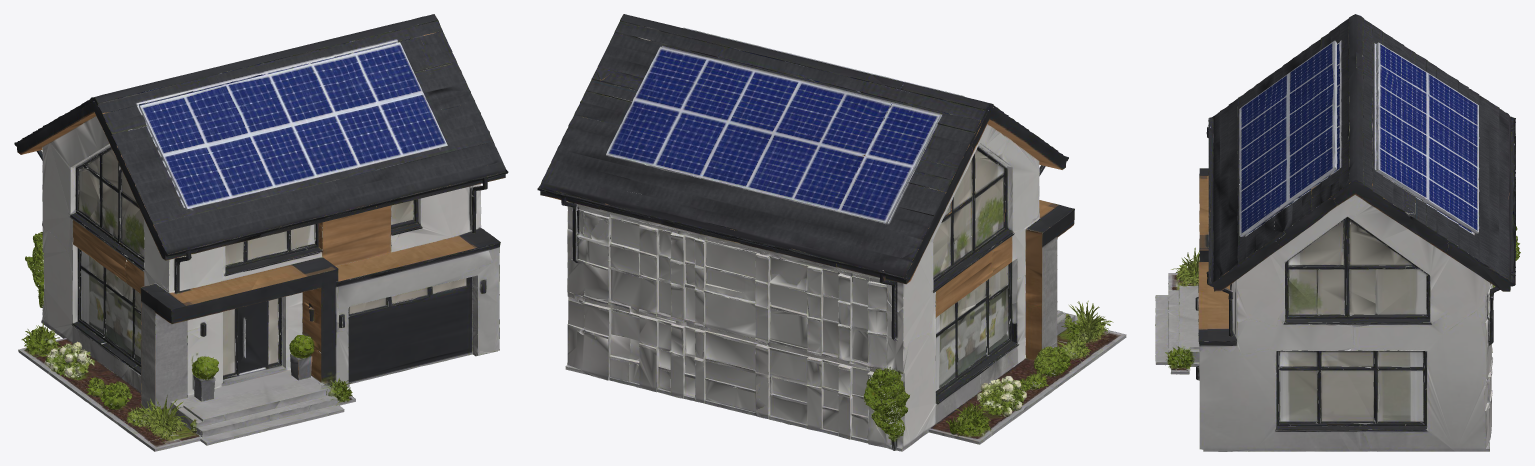
File: casa-3d.glb
3 views of the same model, side by side, from view 1: azimuth 30°, elevation 25°; view 2: azimuth 150°, elevation 25°; view 3: azimuth 270°, elevation 25° (orthographic). The views are drawn at different scales.
Visible parts, largest first — view 1: Mesh_0; view 2: Mesh_0; view 3: Mesh_0.
Part boxes in pixels (box(x1,y1,x2,y2)): Mesh_0: box(14, 14, 508, 451); Mesh_0: box(537, 14, 1126, 451); Mesh_0: box(1155, 14, 1520, 451).
Bounding box in the file's own units: 1.9 × 1.34 × 1.59.
1 material, 1 textured.
